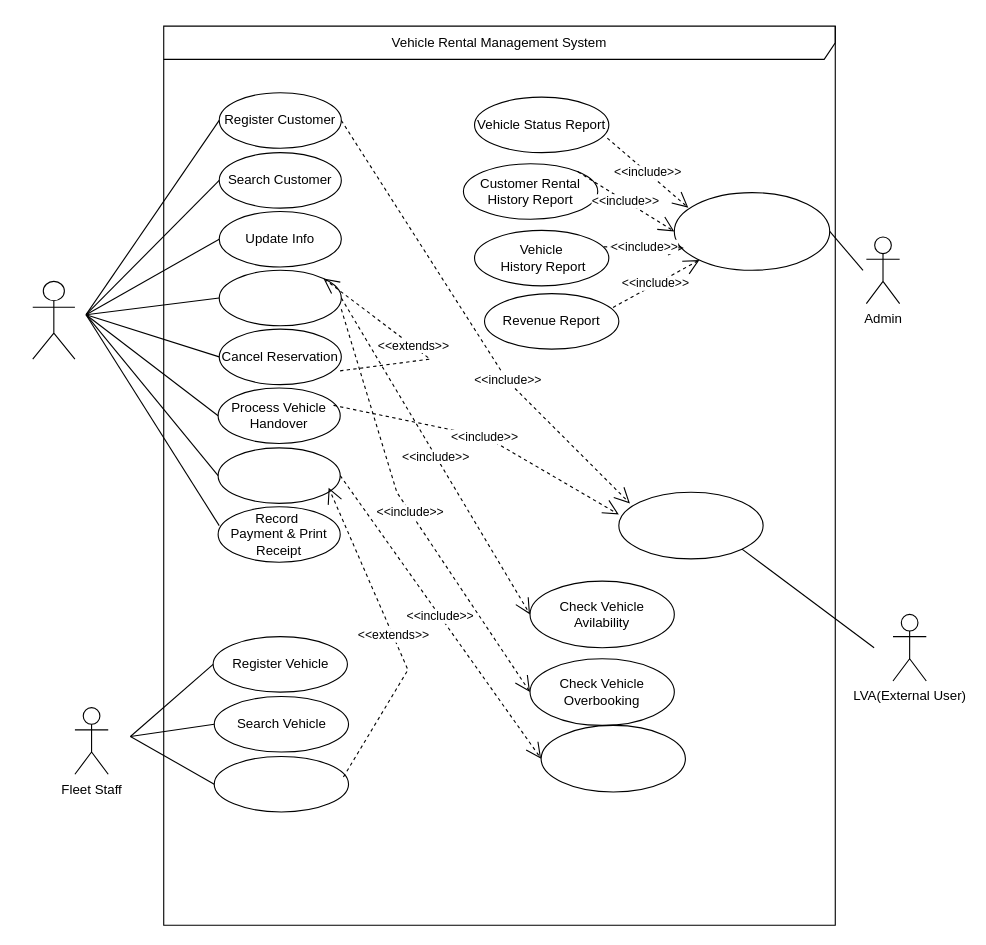
The diagram is 986 pixels wide and 945 high, and some of its shapes have lost their labels. Here are the shapes that lost their labels. From the top down, the centre of each, then its label:
the point at 751,230: Generate System Reports
the point at 279,297: Create Reservation
the point at 53,319: Rental Staff
the point at 278,475: Process Vehicle Return
the point at 690,525: Verify License
the point at 612,758: Calculate Charges & fees
the point at 281,783: Manage Maintenance Records
